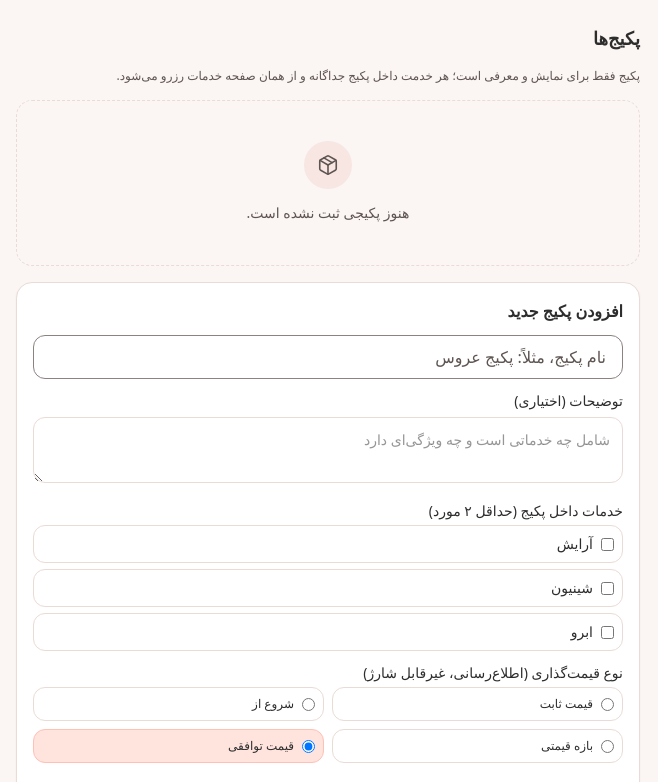
Scenario: PackagesView › rejects creating a package with fewer than 2 services selected
Type "پکیج تست" into the field with placeholder "نام پکیج، مثلاً: پکیج عروس" at coordinates (328, 357), box [33, 335, 623, 379]
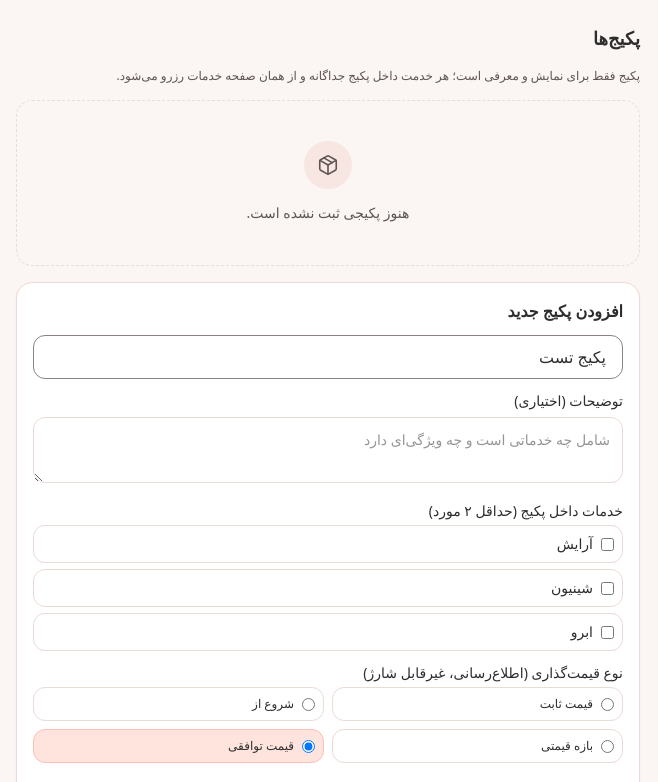
Click the checkbox with test id "package-service-checkbox-svc-1" at coordinates (608, 544), box [601, 538, 614, 550]
(page scrolled)
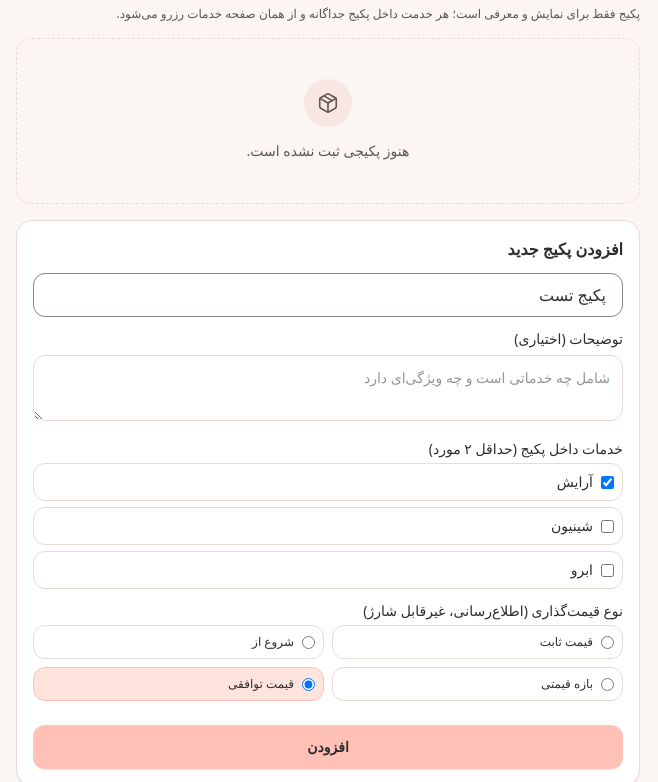
Click the button with test id "add-package" at coordinates (328, 747), box [33, 725, 623, 769]
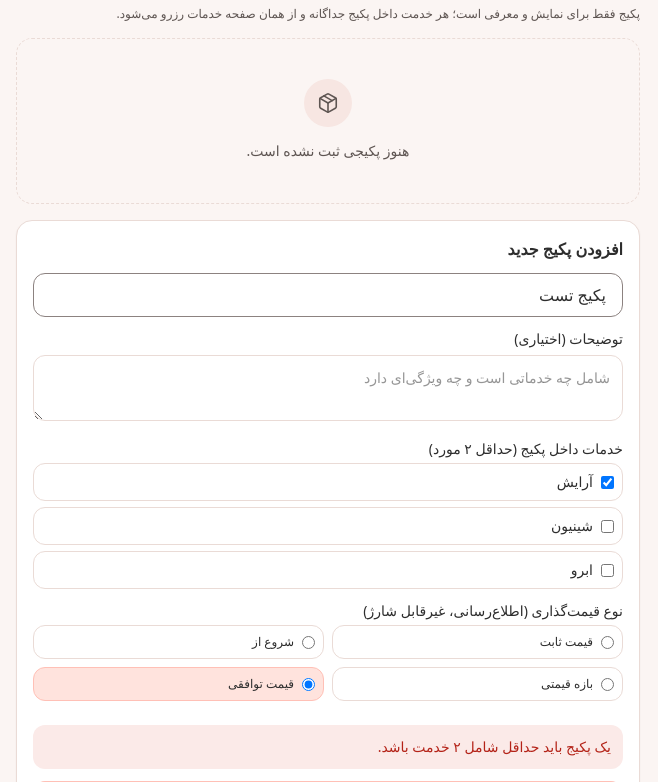
Expected: the text "یک پکیج باید حداقل شامل ۲ خدمت باشد" is shown, [378, 737, 611, 756]
